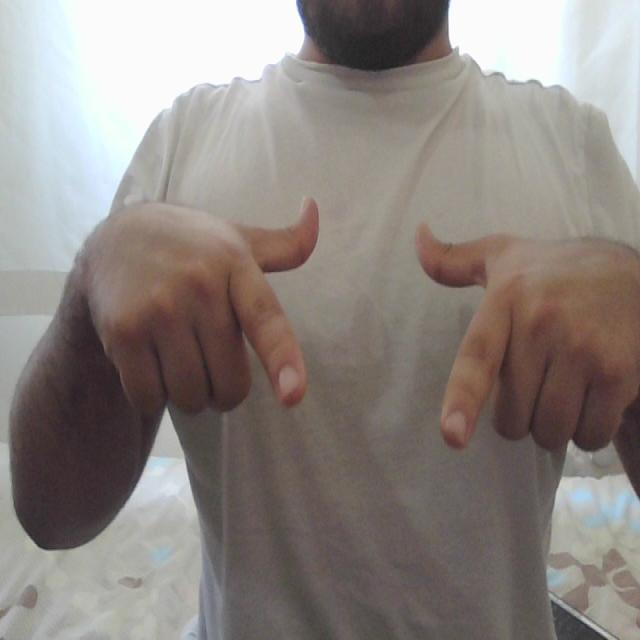Nerede: (217, 175, 523, 467)
